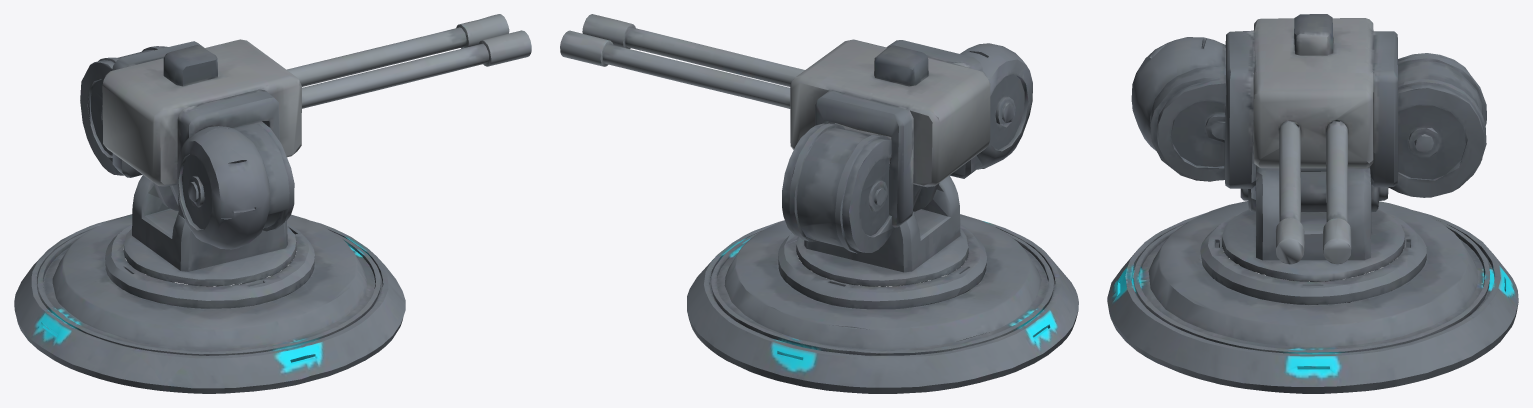
File: town-mg-light.glb
3 views of the same model, side by side, from view 1: azimuth 30°, elevation 25°; view 2: azimuth 150°, elevation 25°; view 3: azimuth 270°, elevation 25° (orthographic). The views are drawn at different scales.
Parts seen in each view (by area): view 1: town-mg-light; view 2: town-mg-light; view 3: town-mg-light.
Boxes of the visible parts, x1,y1,x2,y2 form: town-mg-light: [14, 14, 531, 393]; town-mg-light: [560, 14, 1078, 393]; town-mg-light: [1107, 14, 1518, 393].
Size of the model in its own units: 4.21 by 2.23 by 3.01.
Materials: 1 (1 with a texture image).
